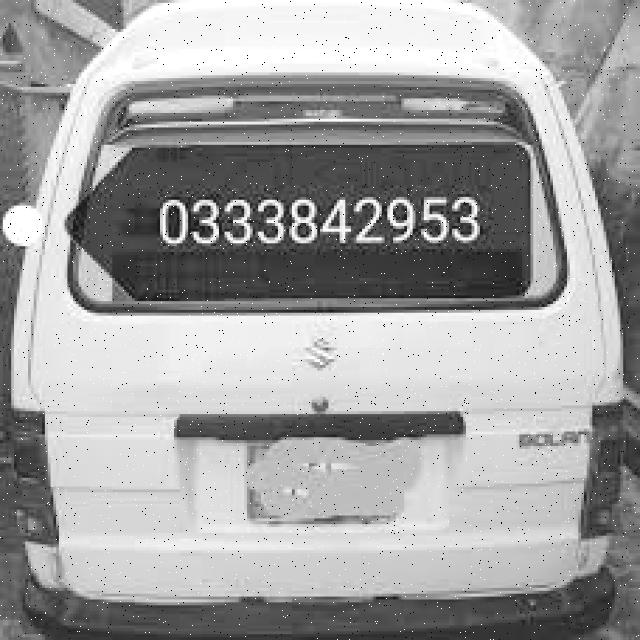Van: (11, 6, 640, 640)
